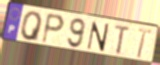9: (66, 18, 86, 50)
N: (85, 20, 111, 53)
P: (40, 12, 66, 46)
Q: (20, 11, 45, 43)
T: (114, 24, 132, 56), (136, 27, 153, 60)
